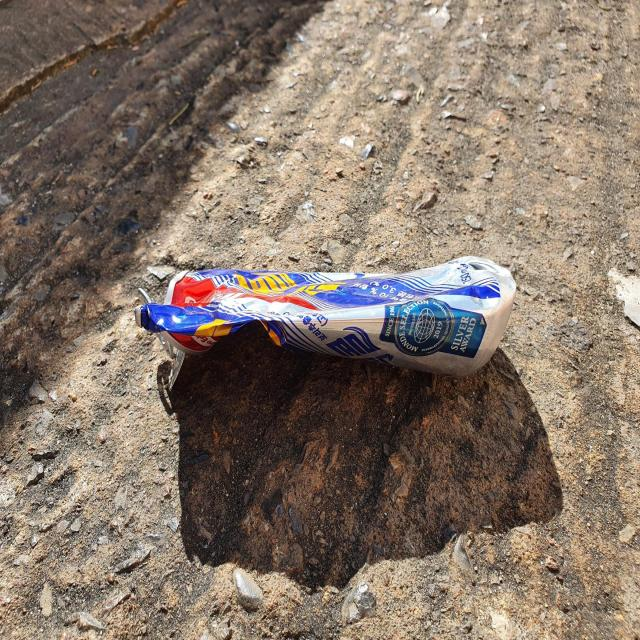can: (134, 256, 517, 390)
